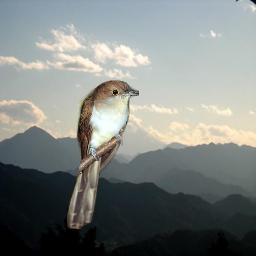Cuckoo: (67, 79, 139, 229)
